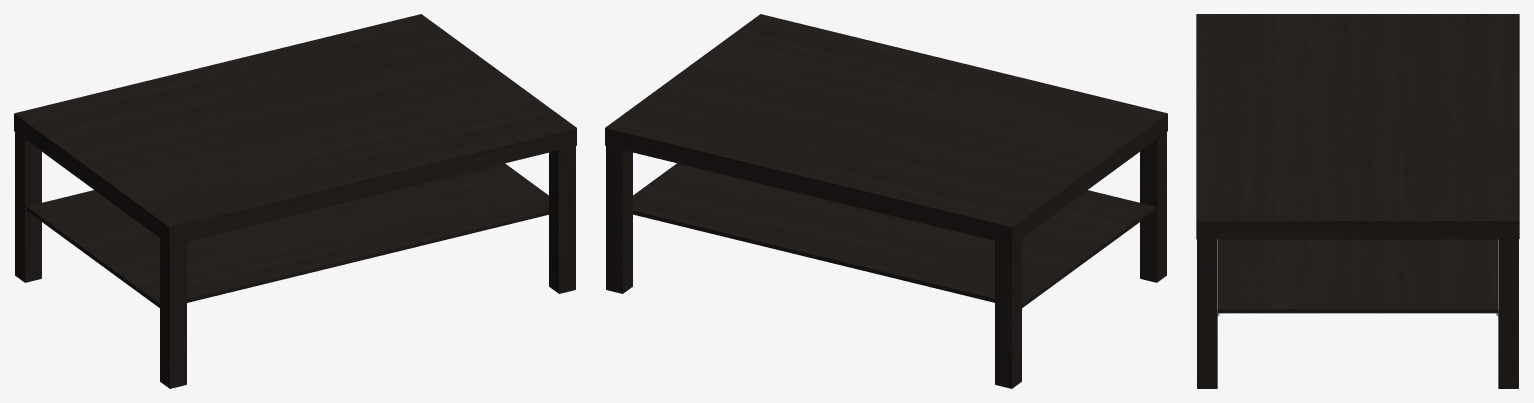
Rendered from LACK coffee table - black-brown.glb.
The picture shows the model from 3 angles, left to right: view 1: azimuth 30°, elevation 25°; view 2: azimuth 150°, elevation 25°; view 3: azimuth 270°, elevation 25°; orthographic projection. The views are drawn at different scales.
Parts seen in each view (by area): view 1: model; view 2: model; view 3: model.
Boxes of the visible parts, left/top/right/bottom form: model: left=14, top=14, right=576, bottom=388; model: left=605, top=14, right=1167, bottom=388; model: left=1196, top=14, right=1519, bottom=388.
Size of the model in its own units: 1.18 by 0.4502 by 0.7799.
Materials: 1 (1 with a texture image).
